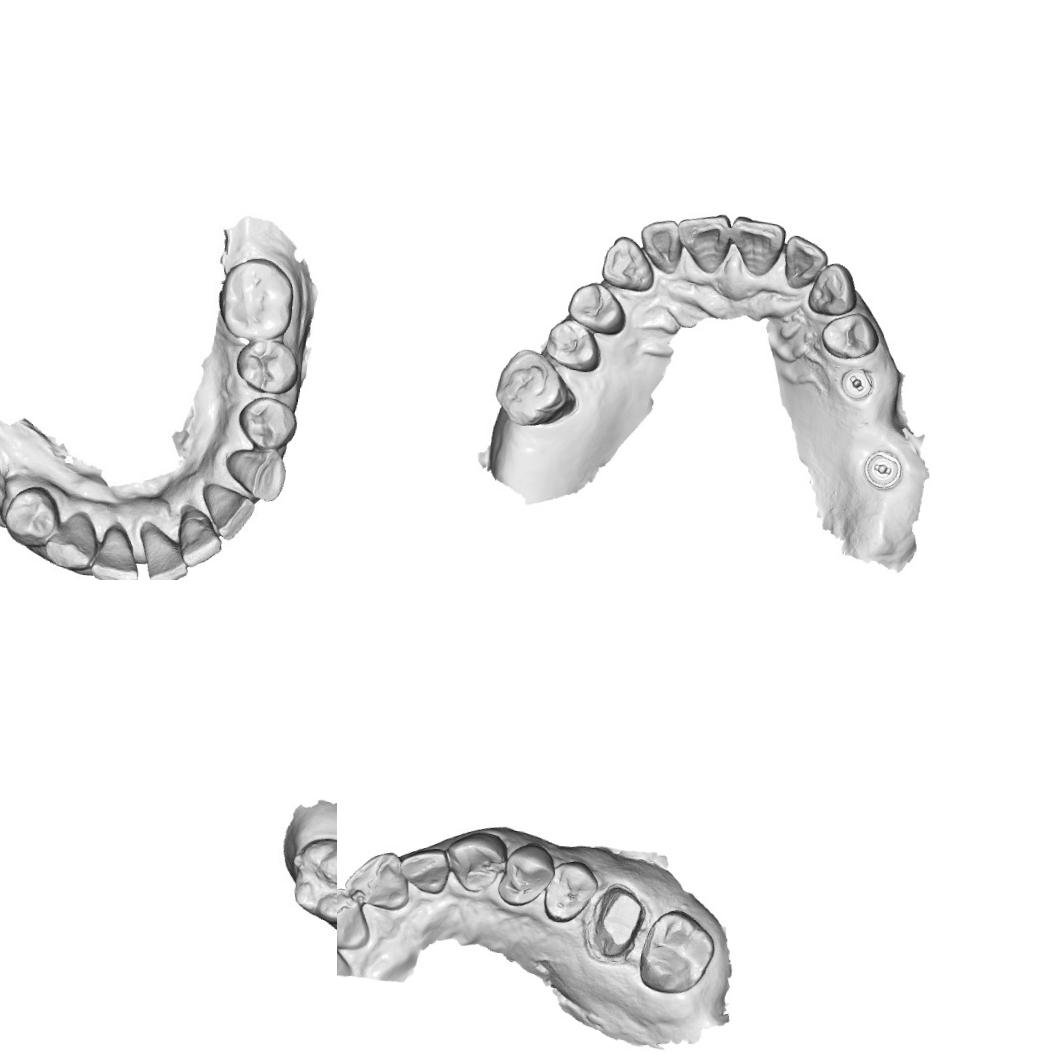canine: (444, 826, 507, 896), (221, 444, 289, 505), (40, 507, 100, 574), (599, 232, 658, 294), (804, 260, 861, 318)
crown: (583, 876, 652, 966)
implant_minus: (858, 448, 903, 490), (838, 360, 876, 404)
incisor: (339, 847, 414, 911), (673, 208, 733, 278), (725, 214, 788, 280), (132, 516, 195, 580), (199, 480, 258, 545), (85, 517, 145, 580), (175, 504, 227, 572), (633, 215, 686, 276), (778, 232, 828, 292), (396, 846, 456, 896), (337, 884, 374, 953)
molar: (633, 904, 720, 999), (214, 252, 296, 344), (492, 344, 577, 431), (290, 836, 337, 924)
premolar: (230, 334, 306, 400), (495, 837, 558, 912), (232, 392, 302, 455), (0, 482, 62, 550), (564, 278, 632, 338), (542, 854, 598, 925), (540, 314, 604, 374), (817, 308, 881, 362)
